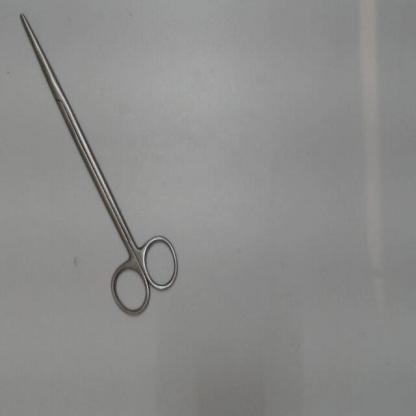9 Metzenbaum Scissors: (16, 9, 188, 326)
